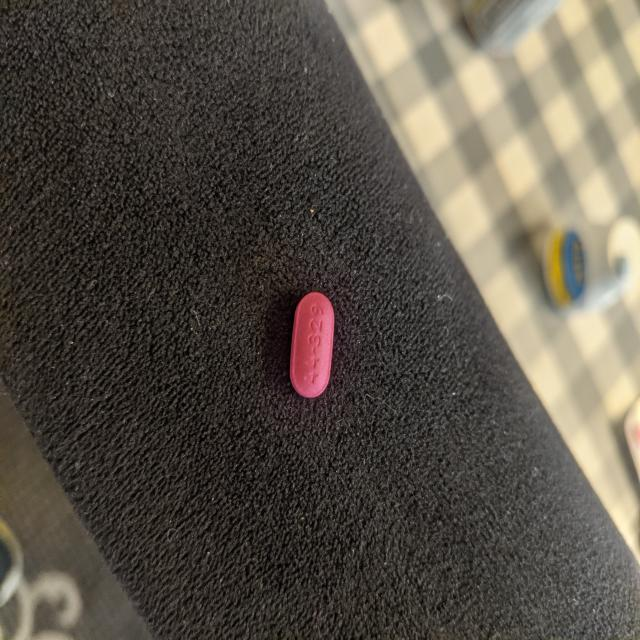non-organic waste: (290, 291, 336, 398)
